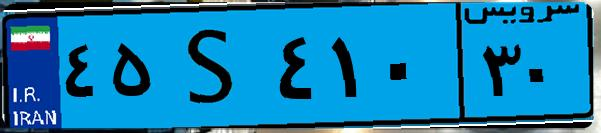0: (385, 28, 445, 110), (525, 38, 570, 115)
1: (330, 28, 385, 110)
3: (475, 38, 525, 113)
4: (270, 28, 330, 110), (57, 26, 110, 100)
5: (110, 28, 158, 98)
S: (158, 12, 270, 120)
